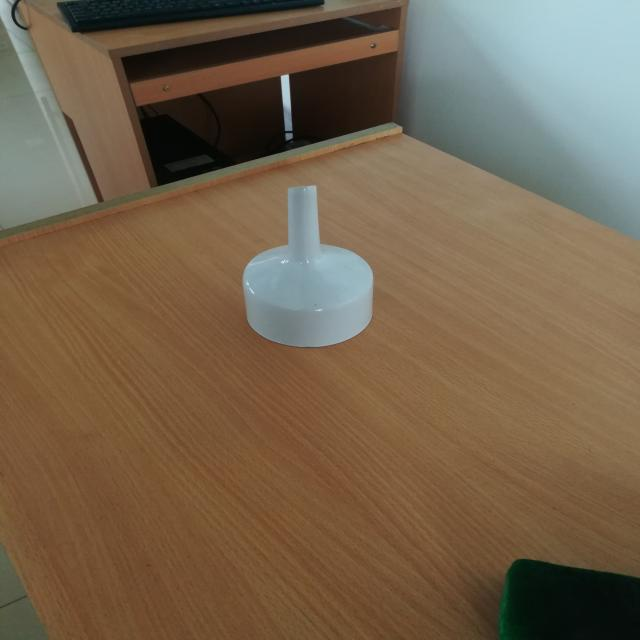Buchner_Funnel: (179, 163, 414, 373)
